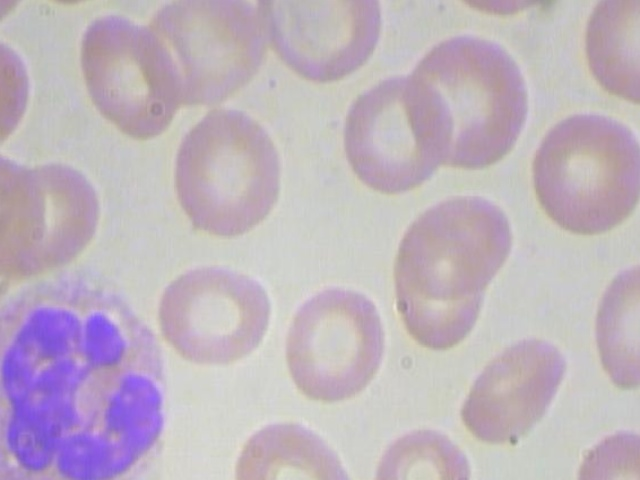RBC: (400, 29, 531, 177), (450, 319, 576, 452), (158, 104, 284, 237), (519, 107, 640, 241), (334, 70, 454, 198), (273, 284, 400, 399), (391, 187, 522, 297), (390, 207, 487, 351), (153, 0, 280, 109), (77, 4, 180, 137), (155, 259, 272, 373), (250, 0, 389, 91), (0, 146, 46, 271), (0, 25, 36, 157), (434, 0, 570, 24)
WBC: (0, 260, 188, 480)
